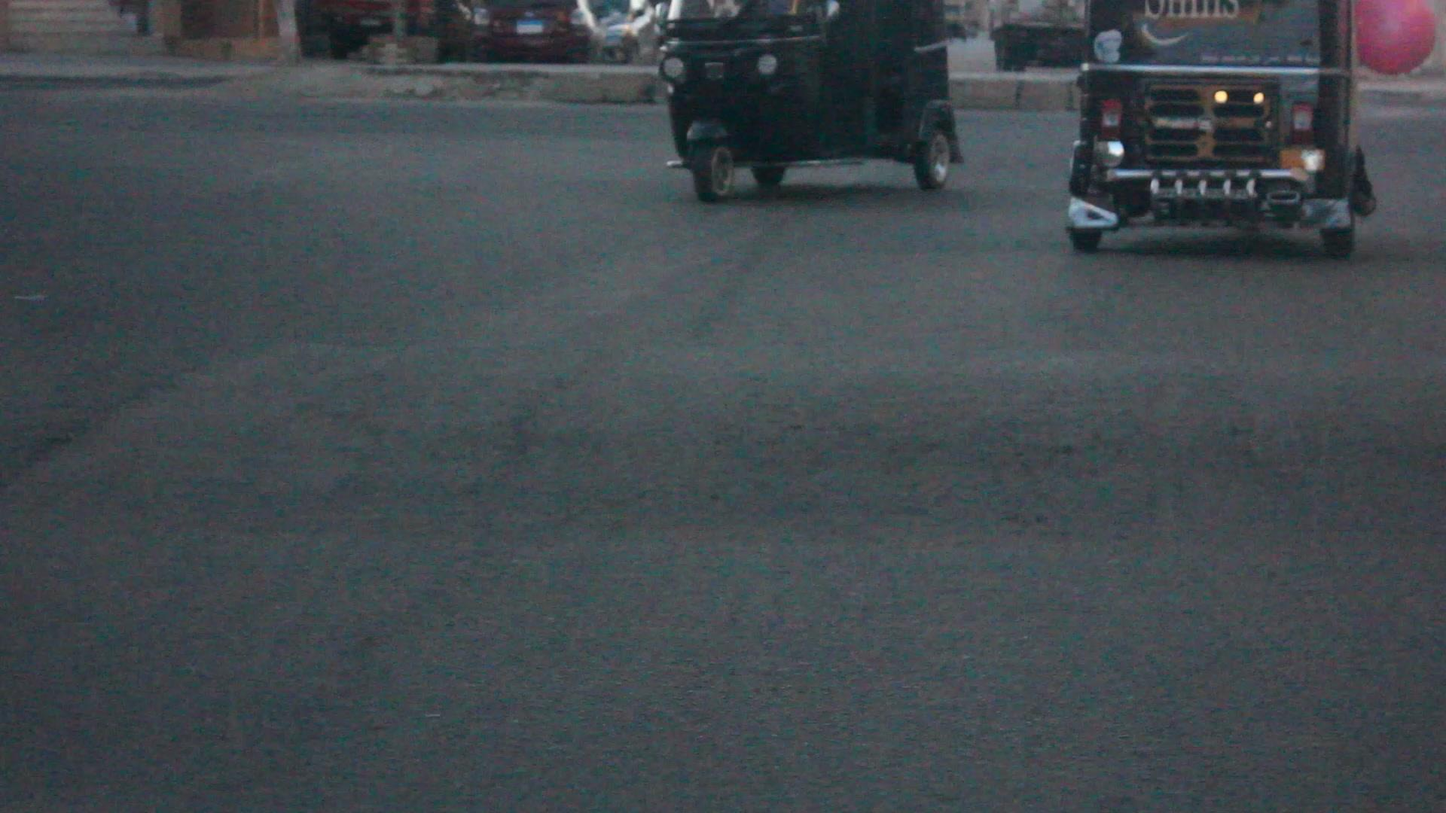Bump: (4, 312, 1446, 542)
